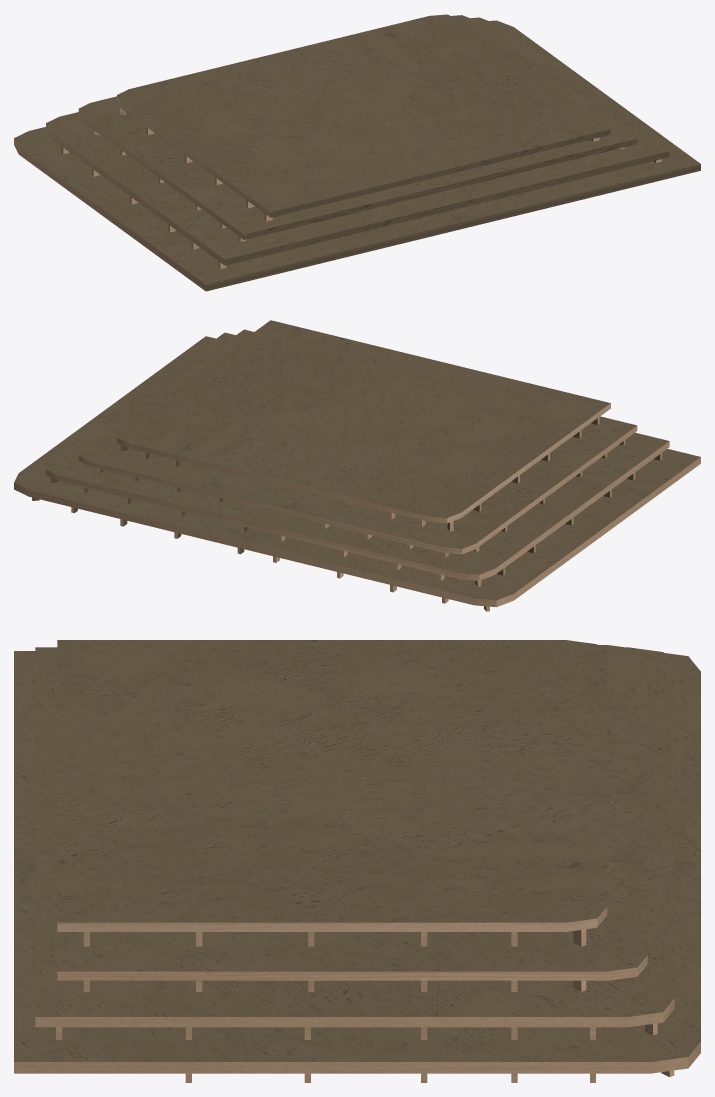
File: Drum_Stand.fbx
3 renders of one model, top to bottom at view 1: azimuth 30°, elevation 25°; view 2: azimuth 150°, elevation 25°; view 3: azimuth 270°, elevation 25°, orthographic. The views are drawn at different scales.
Visible parts, largest first — view 1: Drum_Stand; view 2: Drum_Stand; view 3: Drum_Stand.
Boxes of the visible parts, bbox=[...] form: Drum_Stand: bbox=[14, 14, 700, 291]; Drum_Stand: bbox=[14, 320, 700, 611]; Drum_Stand: bbox=[14, 640, 700, 1082].
Size of the model in its own units: 16.51 by 2 by 11.66.
